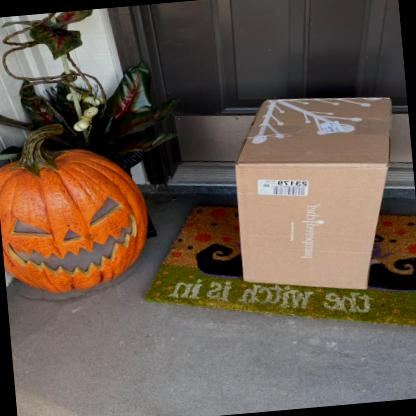box: (236, 94, 393, 292)
